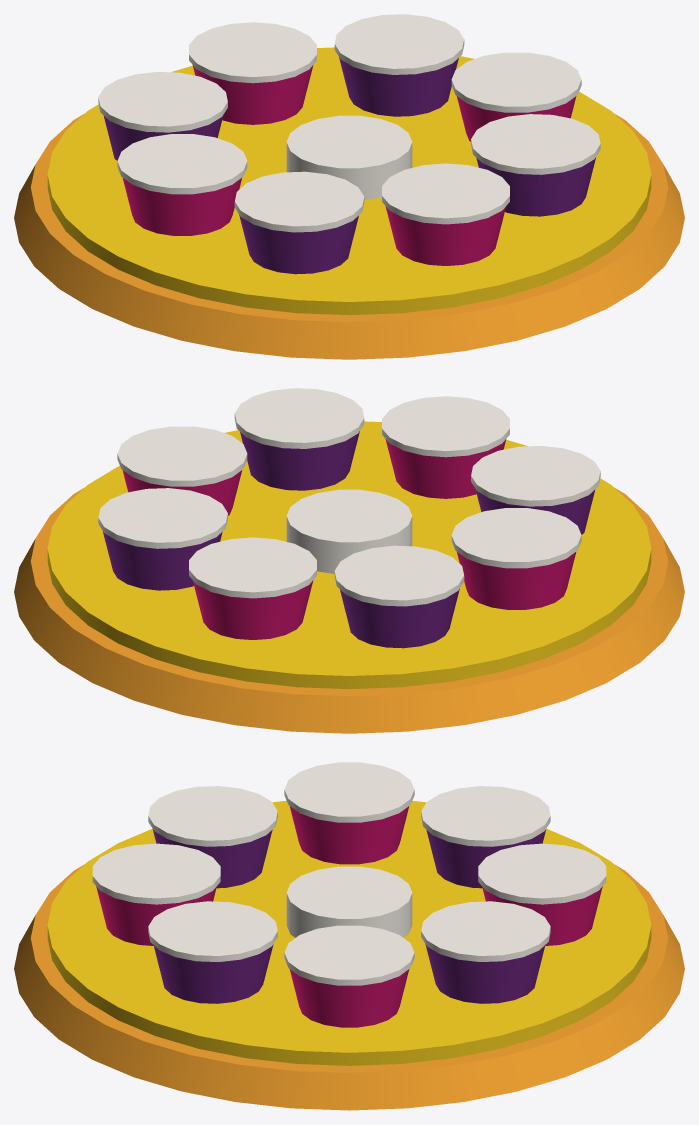
The model's file is tilt-ride.glb.
3 renders of one model, top to bottom at view 1: azimuth 30°, elevation 25°; view 2: azimuth 150°, elevation 25°; view 3: azimuth 270°, elevation 25°, orthographic.
Visible parts, largest first — view 1: tilt_disc, tilt_base, tilt_hub, tilt_pod_rim_0, tilt_pod_rim_4, tilt_pod_rim_7, tilt_pod_rim_1, tilt_pod_rim_3, tilt_pod_rim_5, tilt_pod_rim_2, tilt_pod_rim_6, tilt_pod_shell_2 (+7 smaller); view 2: tilt_disc, tilt_base, tilt_hub, tilt_pod_rim_0, tilt_pod_rim_4, tilt_pod_rim_1, tilt_pod_rim_7, tilt_pod_rim_5, tilt_pod_rim_3, tilt_pod_rim_6, tilt_pod_rim_2, tilt_pod_shell_6 (+7 smaller); view 3: tilt_disc, tilt_base, tilt_hub, tilt_pod_rim_0, tilt_pod_rim_4, tilt_pod_rim_3, tilt_pod_rim_5, tilt_pod_rim_1, tilt_pod_rim_7, tilt_pod_rim_2, tilt_pod_rim_6, tilt_pod_shell_0 (+7 smaller).
Boxes of the visible parts, box(x1,y1,x2,y2) form: tilt_disc: box(47, 47, 651, 315); tilt_base: box(14, 113, 684, 359); tilt_hub: box(286, 115, 412, 199); tilt_pod_rim_0: box(451, 52, 581, 112); tilt_pod_rim_4: box(117, 134, 247, 194); tilt_pod_rim_7: box(334, 14, 464, 74); tilt_pod_rim_1: box(471, 114, 600, 174); tilt_pod_rim_3: box(234, 171, 364, 232); tilt_pod_rim_5: box(98, 72, 227, 132); tilt_pod_rim_2: box(382, 163, 509, 224); tilt_pod_rim_6: box(189, 22, 316, 83); tilt_pod_shell_2: box(385, 206, 506, 265); tilt_disc: box(47, 421, 651, 689); tilt_base: box(14, 487, 684, 733); tilt_hub: box(286, 489, 412, 573); tilt_pod_rim_0: box(117, 426, 247, 486); tilt_pod_rim_4: box(451, 508, 581, 568); tilt_pod_rim_1: box(234, 388, 364, 448); tilt_pod_rim_7: box(98, 488, 227, 548); tilt_pod_rim_5: box(334, 545, 464, 606); tilt_pod_rim_3: box(471, 446, 600, 506); tilt_pod_rim_6: box(189, 537, 316, 598); tilt_pod_rim_2: box(382, 396, 509, 457); tilt_pod_shell_6: box(192, 580, 313, 639); tilt_disc: box(47, 800, 651, 1065); tilt_base: box(14, 864, 684, 1110); tilt_hub: box(286, 866, 412, 937); tilt_pod_rim_0: box(284, 925, 414, 985); tilt_pod_rim_4: box(284, 762, 414, 822); tilt_pod_rim_3: box(148, 786, 277, 846); tilt_pod_rim_5: box(421, 786, 550, 846); tilt_pod_rim_1: box(148, 901, 277, 961); tilt_pod_rim_7: box(421, 901, 550, 961); tilt_pod_rim_2: box(92, 843, 220, 904); tilt_pod_rim_6: box(478, 843, 606, 904); tilt_pod_shell_0: box(289, 969, 409, 1027).
Size of the model in its own units: 16 by 2.57 by 16.
